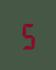five: (19, 20, 35, 49)
